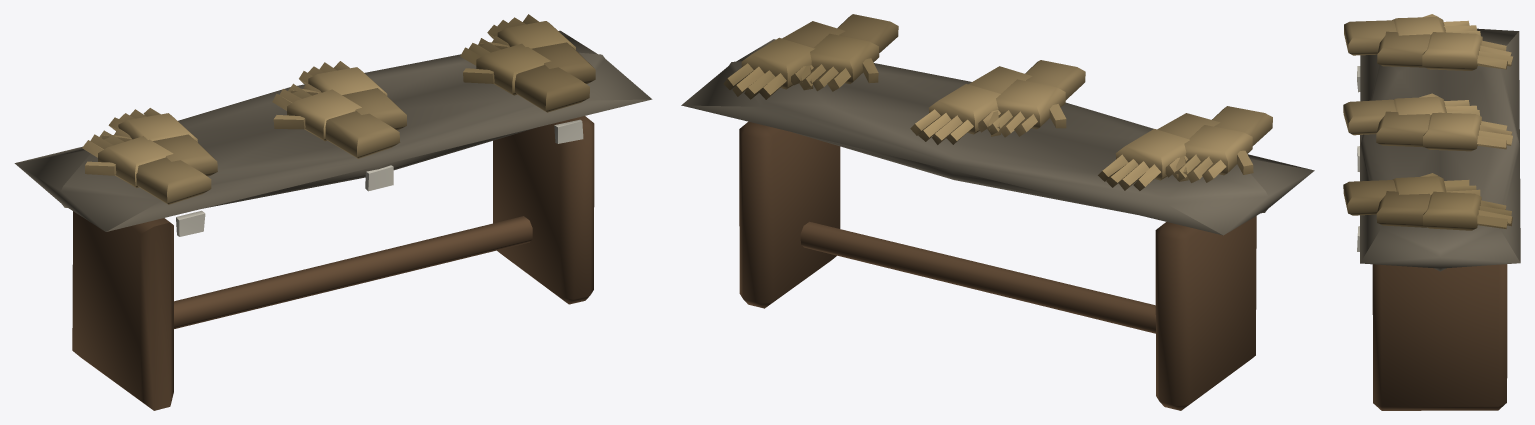
Rendered from glove_bench_c.glb.
The picture shows the model from 3 angles, left to right: view 1: azimuth 30°, elevation 25°; view 2: azimuth 150°, elevation 25°; view 3: azimuth 270°, elevation 25°; orthographic projection. The views are drawn at different scales.
Visible parts, largest first — view 1: Surface; view 2: Surface; view 3: Surface.
Part boxes in pixels (box(x1,y1,x2,y2)): Surface: box(14, 14, 652, 410); Surface: box(681, 14, 1314, 410); Surface: box(1343, 14, 1520, 410).
Size of the model in its own units: 1.3 by 0.5448 by 0.4229.
